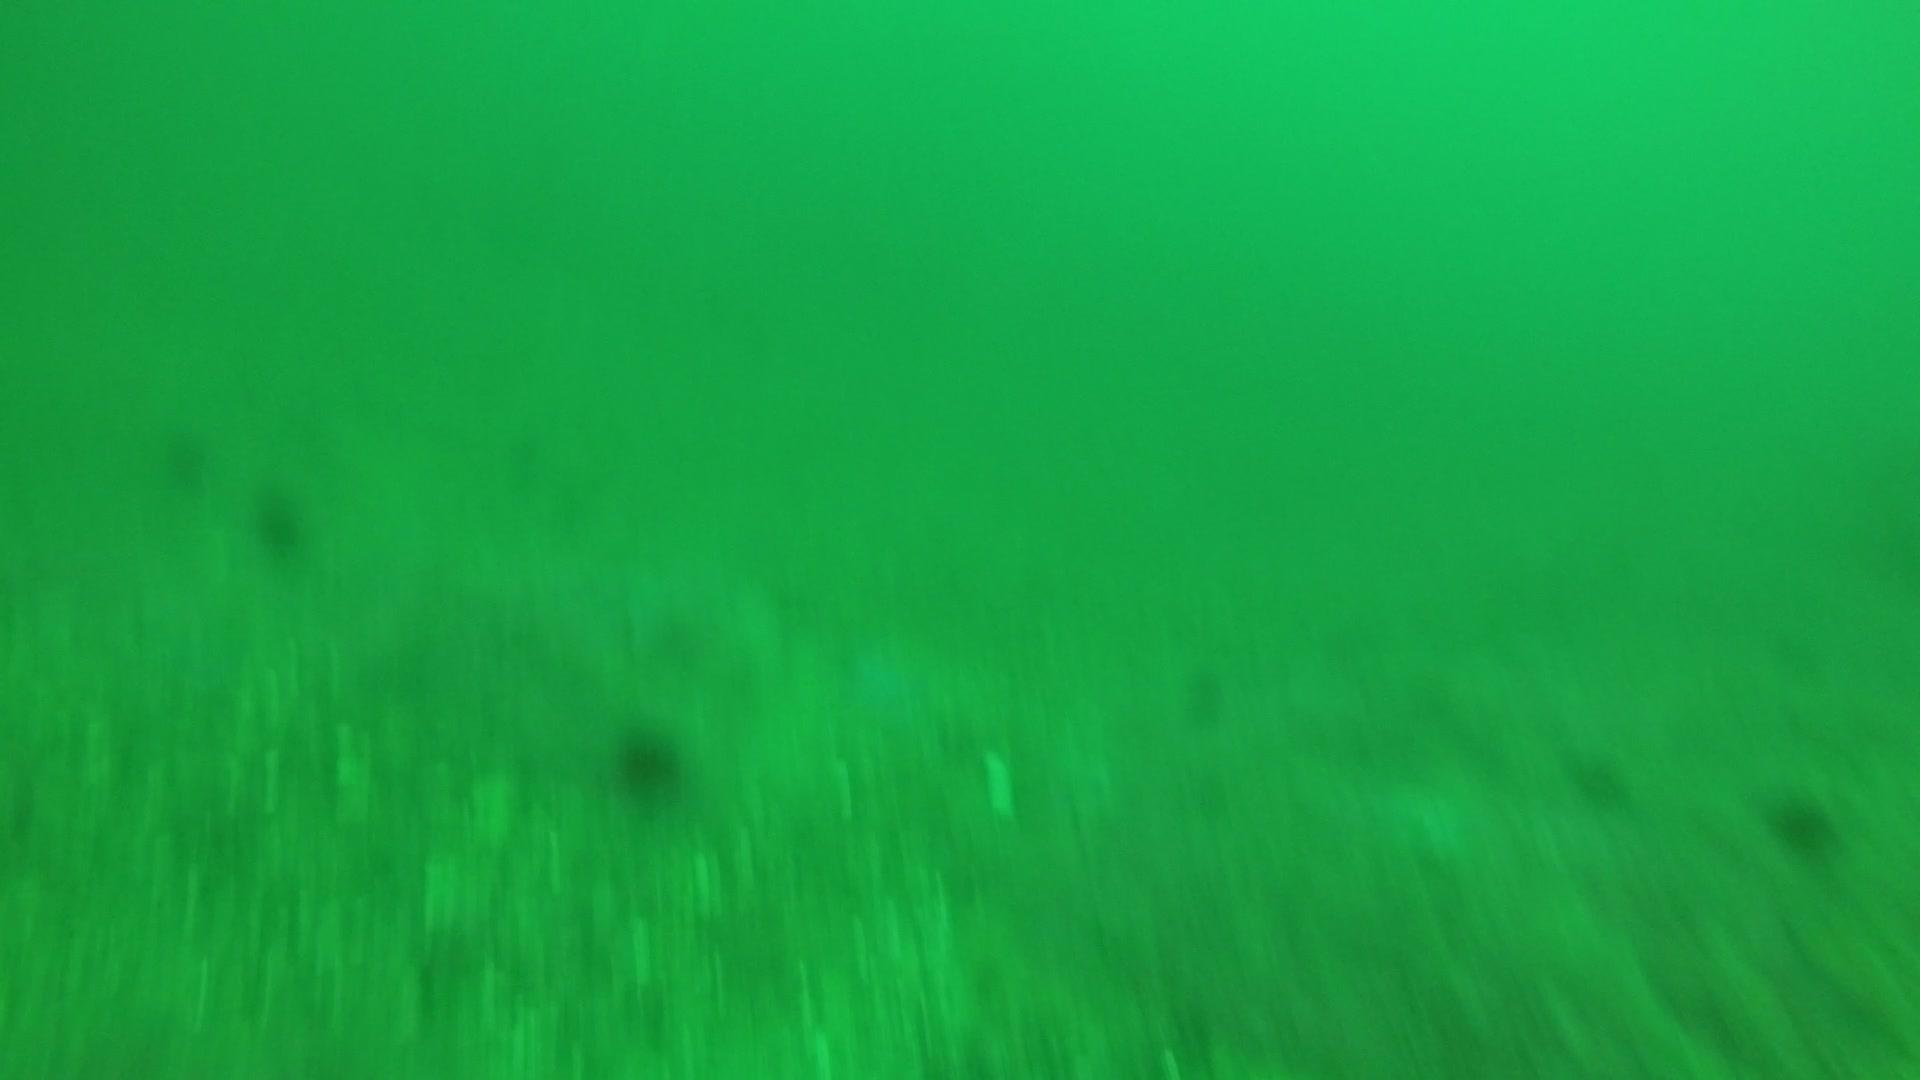echinus: (608, 719, 688, 800), (1763, 787, 1844, 858), (247, 483, 314, 556), (1564, 745, 1634, 811), (153, 421, 215, 492), (1176, 659, 1232, 729)
starfish: (1336, 764, 1491, 873), (839, 628, 942, 727)
